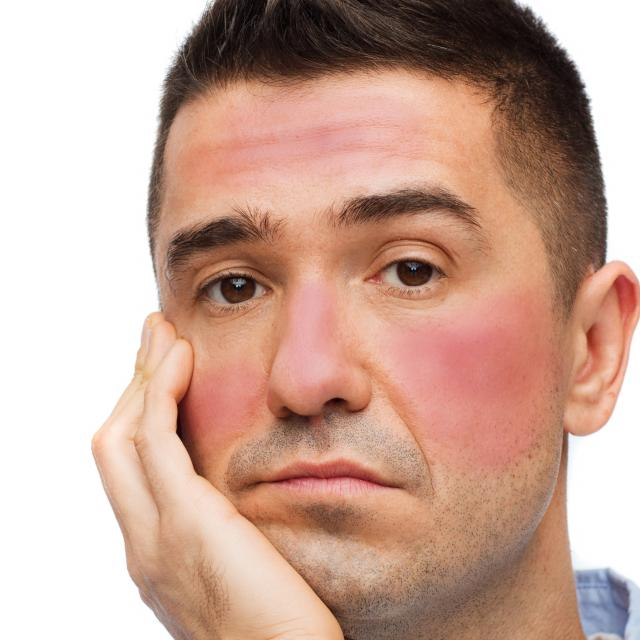Depress: (153, 77, 569, 612)
